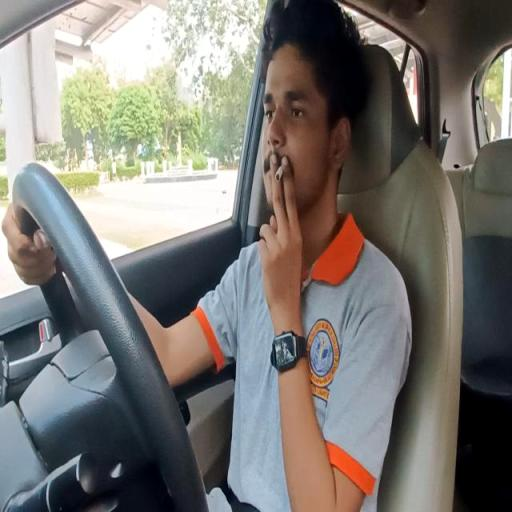Smoking: (5, 34, 414, 504)
